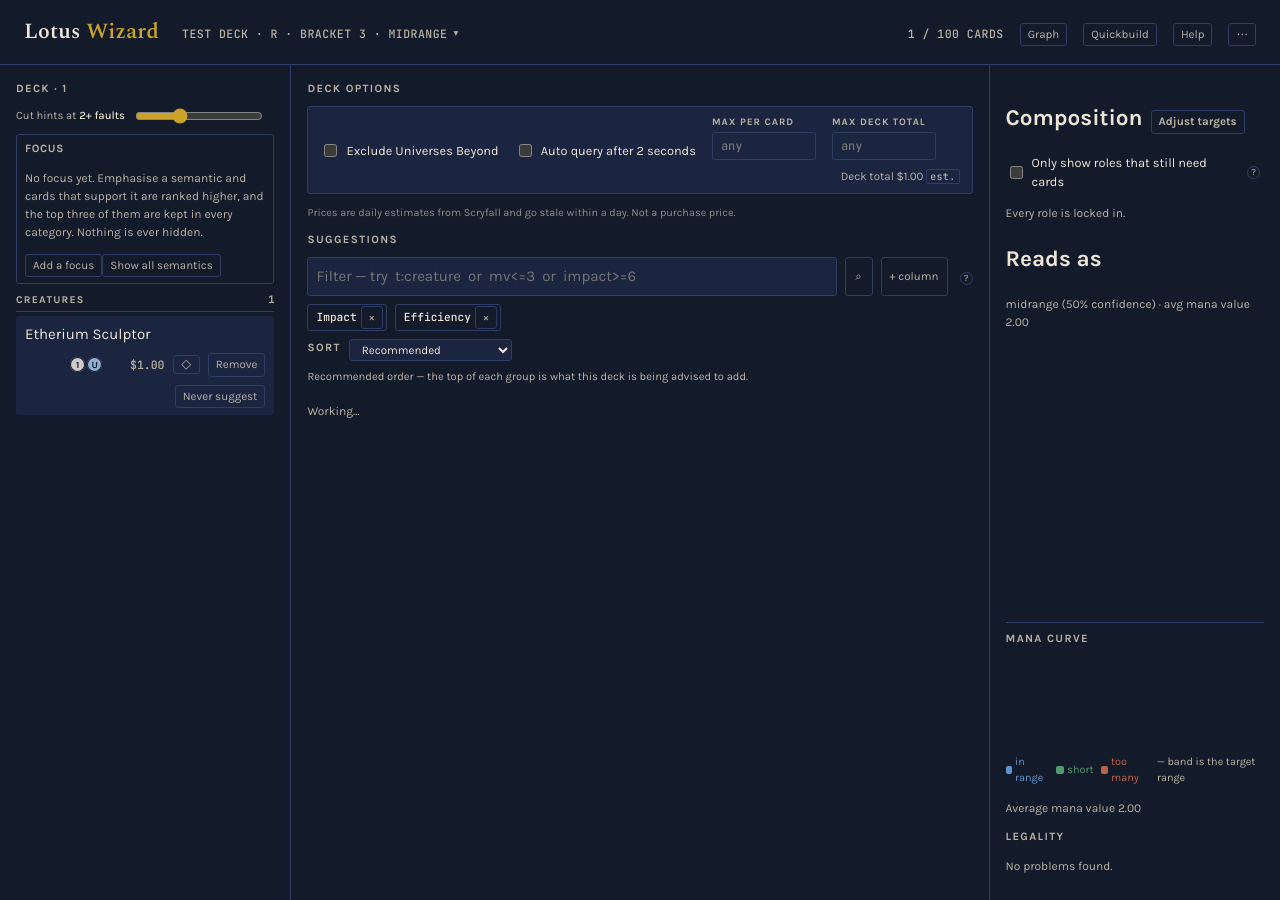
a tag tooltip says how to filter by it › gives the one-sided field and the either-side one
Click the button with aria-label "Preview Etherium Sculptor".
click(145, 334)  # box left=25, top=323, right=266, bottom=345
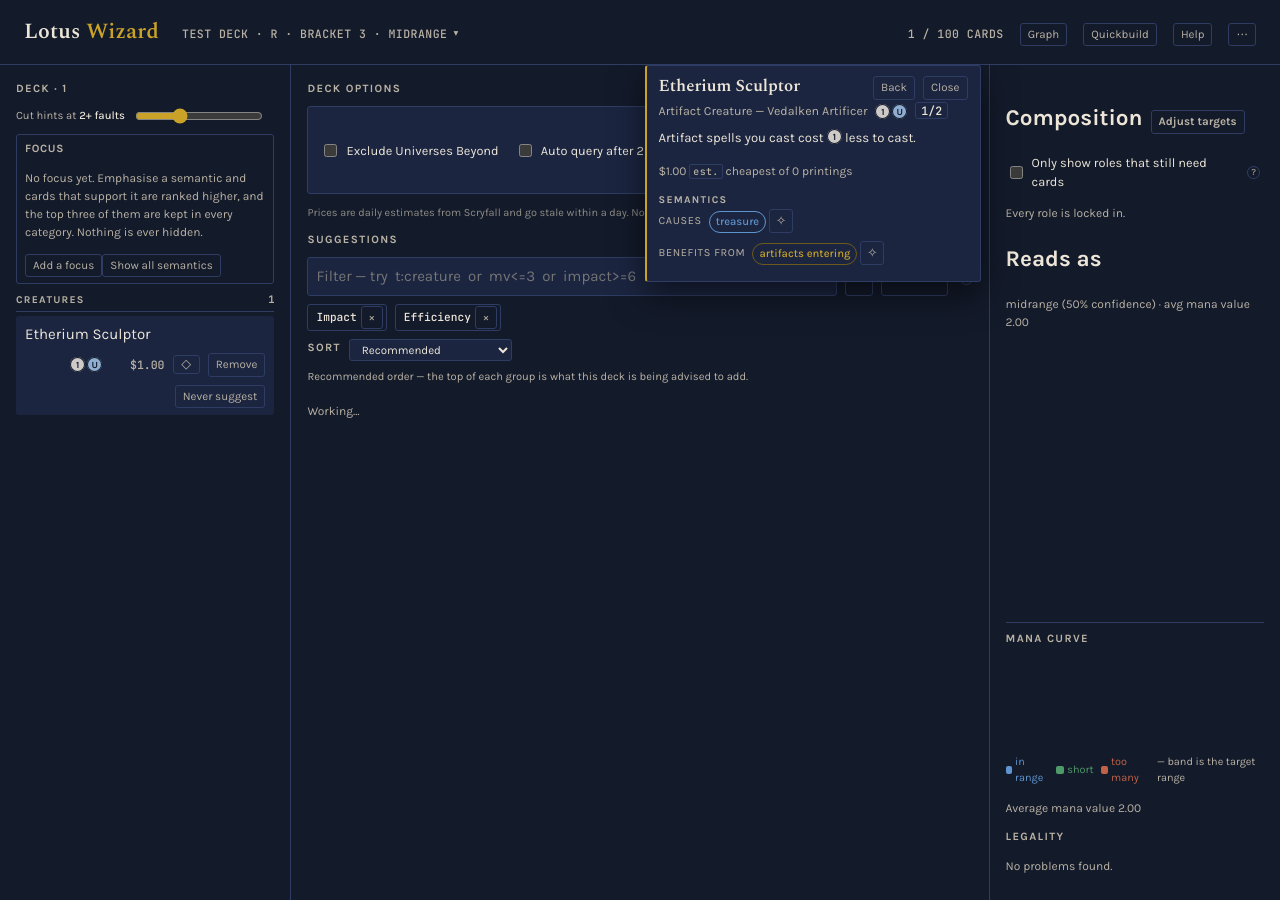
Check: the heading "Semantics" is shown, box left=658, top=193, right=727, bottom=206
Click the button "artifacts entering".
click(805, 253)  # box left=752, top=241, right=857, bottom=265
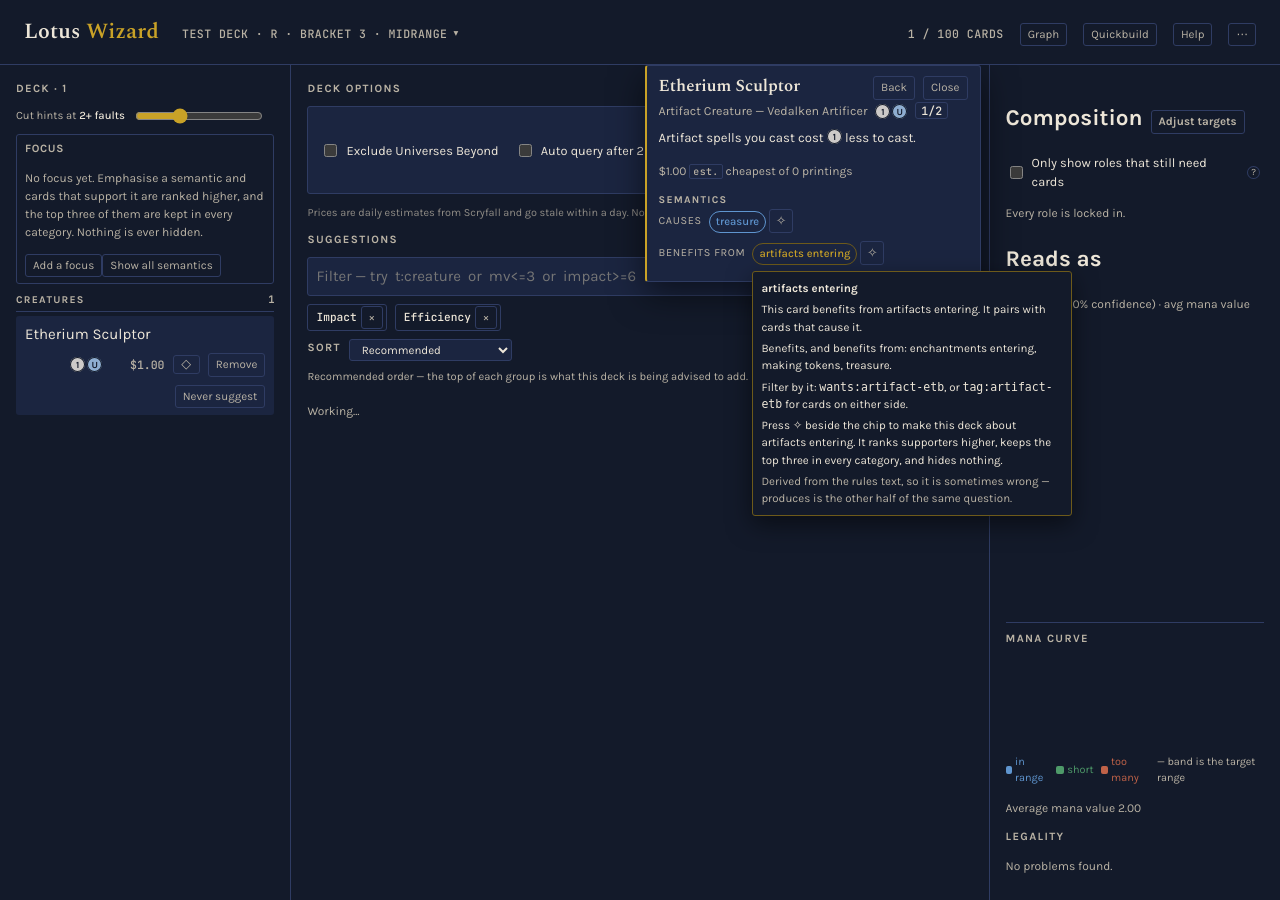
Check: the tooltip shows "wants:artifact-etb", box left=752, top=271, right=1072, bottom=516
Check: the tooltip shows "tag:artifact-etb", box left=752, top=271, right=1072, bottom=516
